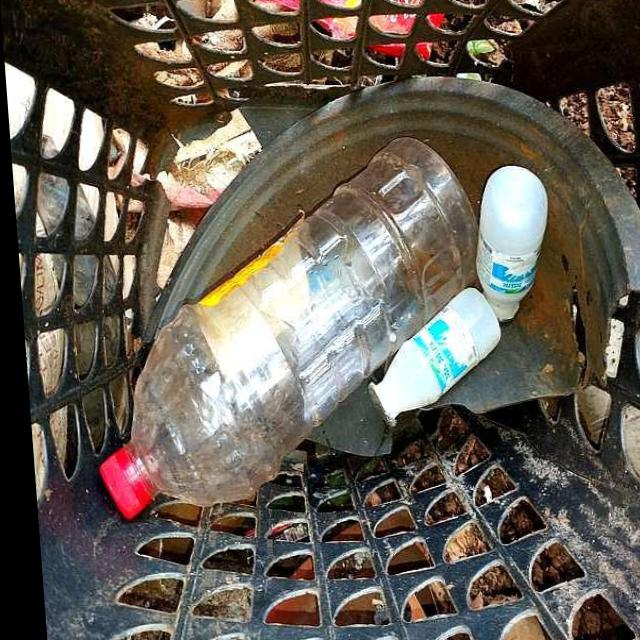Non-biodegradable: (23, 123, 514, 568), (351, 283, 515, 441), (467, 167, 559, 326)
